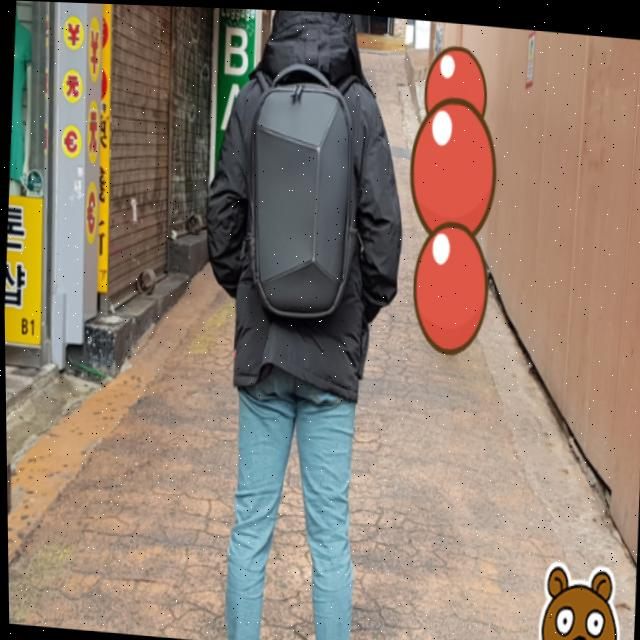backpack: (221, 39, 378, 324)
